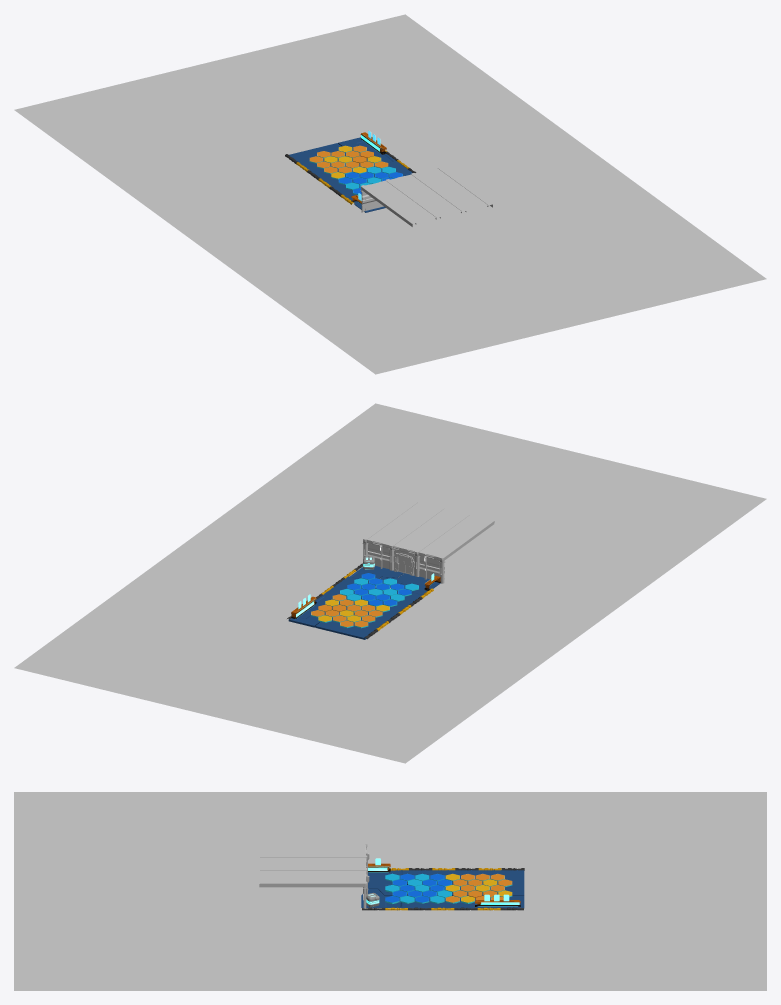
Rendered from Robots Mini.fbx.
3 views of the same model, one above another, from view 1: azimuth 30°, elevation 25°; view 2: azimuth 150°, elevation 25°; view 3: azimuth 270°, elevation 25° (orthographic). The views are drawn at different scales.
Parts seen in each view (by area): view 1: Plane.001; view 2: Plane.001; view 3: Plane.001.
Boxes of the visible parts, x1,y1,x2,y2 form: Plane.001: (14, 14, 766, 374); Plane.001: (14, 403, 766, 763); Plane.001: (14, 792, 766, 990).
Size of the model in its own units: 5797 by 441 by 9275.
